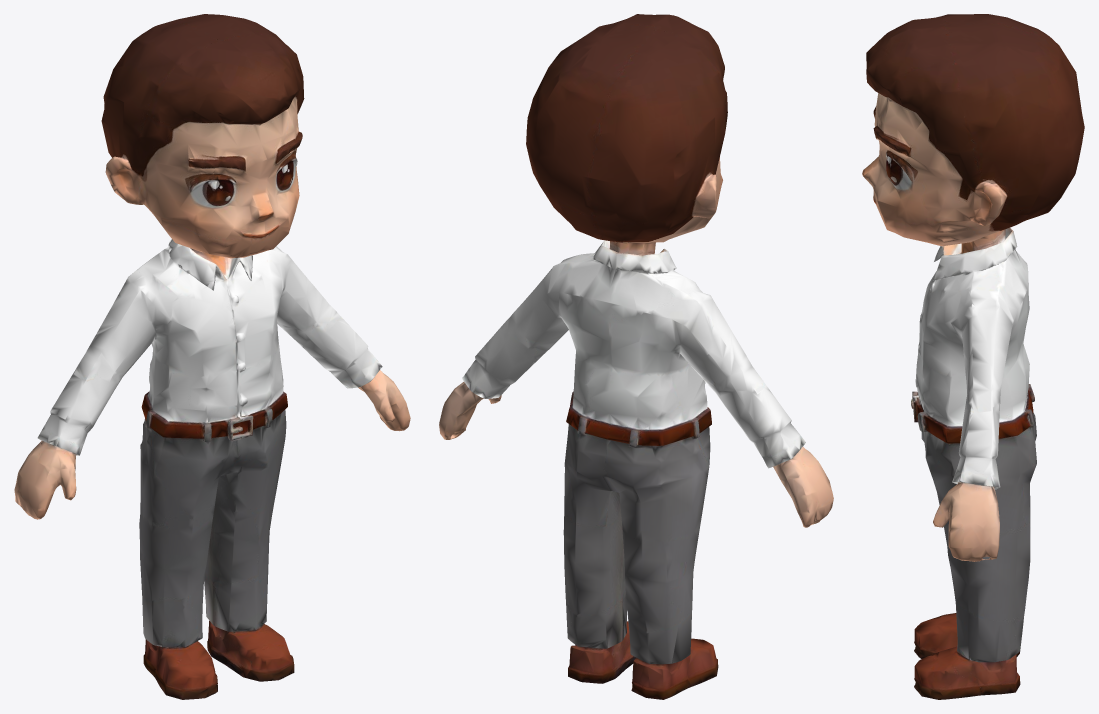
Rendered from char_namja_gajang_base.glb.
The picture shows the model from 3 angles, left to right: view 1: azimuth 30°, elevation 25°; view 2: azimuth 150°, elevation 25°; view 3: azimuth 270°, elevation 25°; orthographic projection.
Bounding box in the file's own units: 1.05 × 1.7 × 0.534.
Materials: 1 (1 with a texture image).
